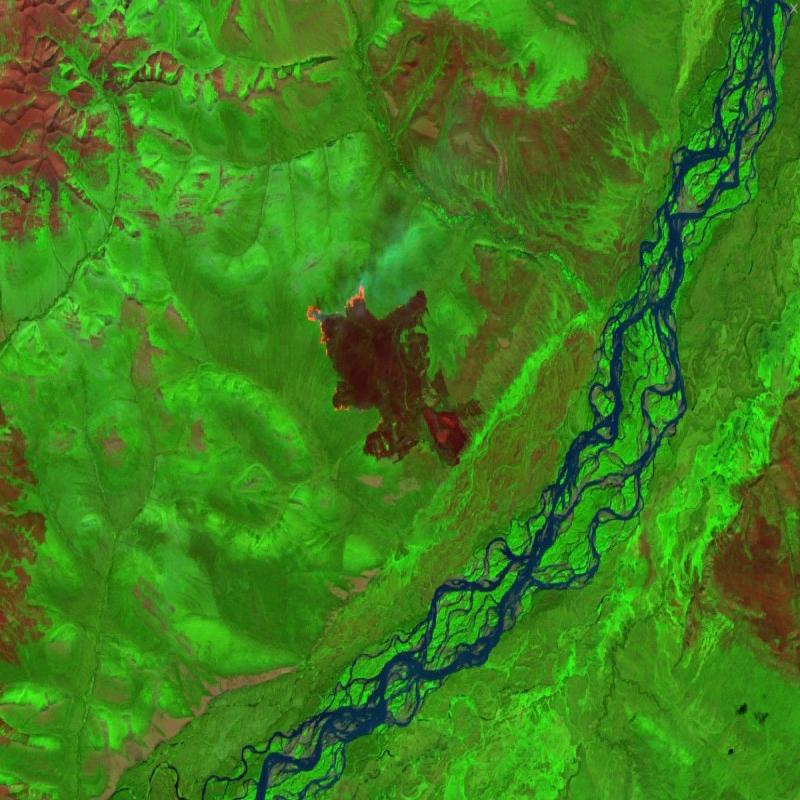fire: (298, 281, 381, 419)
